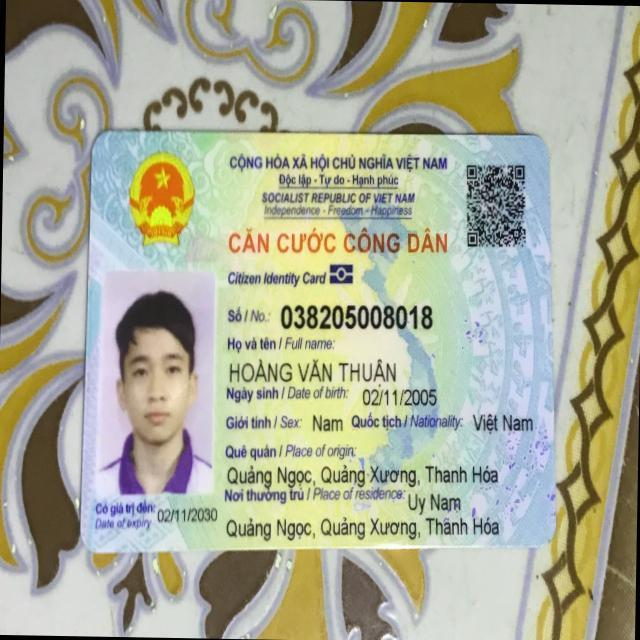current_place: (226, 510, 499, 545), (403, 487, 462, 516)
dob: (358, 382, 438, 411)
expire_date: (153, 500, 225, 528)
gender: (308, 404, 349, 440)
id: (278, 293, 434, 336)
name: (227, 349, 399, 387)
nationality: (469, 407, 534, 436)
origin_place: (227, 457, 500, 493)
qr: (462, 160, 536, 255)
